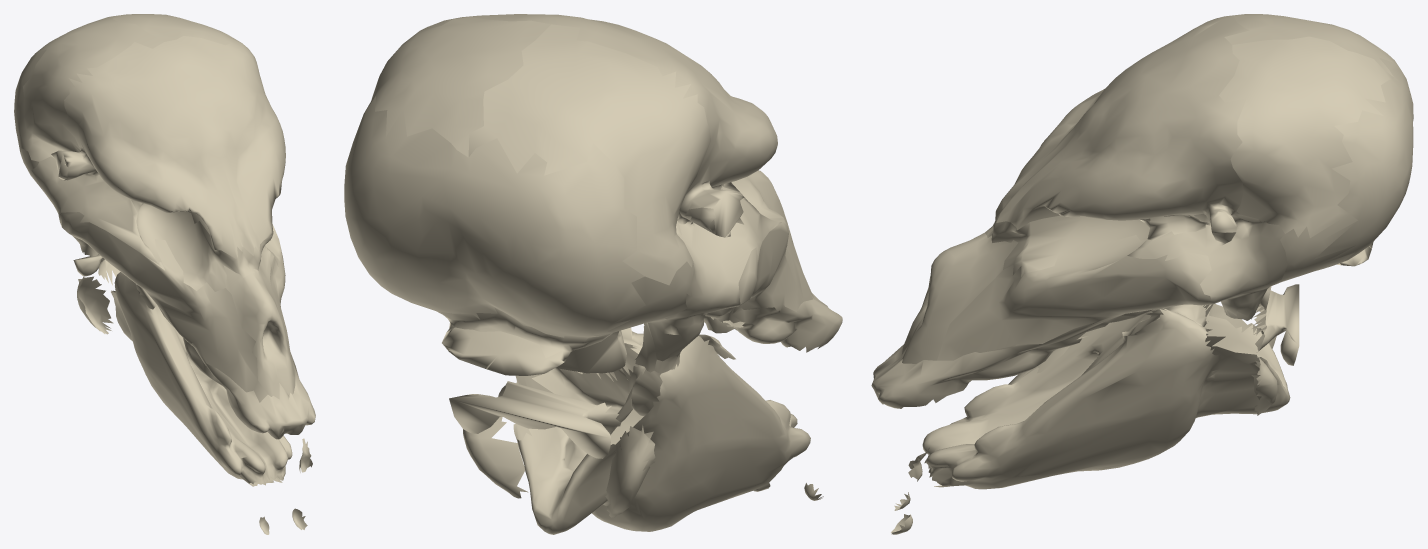
File: imp-skull.glb
The picture shows the model from 3 angles, left to right: view 1: azimuth 30°, elevation 25°; view 2: azimuth 150°, elevation 25°; view 3: azimuth 270°, elevation 25°; orthographic projection. The views are drawn at different scales.
Parts seen in each view (by area): view 1: frontal, mandible, maxilla-right, parietal-right, cranial-base, nasal-core, zygomatic-right, upper-teeth, parietal-left, maxilla-left, occipital, temporal-right; view 2: occipital, mandible, parietal-right, cranial-base, parietal-left, frontal, zygomatic-right, upper-teeth, maxilla-right, temporal-right, nasal-core; view 3: mandible, frontal, parietal-left, maxilla-left, cranial-base, occipital, zygomatic-left, upper-teeth, nasal-core, parietal-right, temporal-left.
Boxes of the visible parts, box(x1,y1,x2,y2) form: frontal: box(56, 34, 285, 258); mandible: box(111, 272, 312, 534); maxilla-right: box(61, 212, 267, 402); parietal-right: box(14, 16, 163, 169); cranial-base: box(73, 203, 278, 334); nasal-core: box(223, 254, 295, 399); zygomatic-right: box(31, 156, 164, 270); upper-teeth: box(158, 306, 315, 439); parietal-left: box(113, 14, 240, 45); maxilla-left: box(265, 224, 291, 357); occipital: box(14, 46, 46, 132); temporal-right: box(20, 148, 96, 300); occipital: box(344, 96, 645, 375); mandible: box(513, 327, 823, 534); parietal-right: box(468, 24, 715, 285); cranial-base: box(437, 177, 783, 517); parietal-left: box(365, 17, 550, 157); frontal: box(420, 14, 777, 237); zygomatic-right: box(648, 185, 781, 361); upper-teeth: box(698, 293, 842, 359); maxilla-right: box(705, 218, 813, 317); temporal-right: box(594, 261, 693, 470); nasal-core: box(746, 170, 793, 244); mandible: box(891, 304, 1290, 534); frontal: box(996, 14, 1249, 233); parietal-left: box(1219, 36, 1393, 239); maxilla-left: box(937, 235, 1213, 360); cranial-base: box(985, 200, 1340, 415); occipital: box(1314, 48, 1413, 266); zygomatic-left: box(1127, 213, 1287, 315); upper-teeth: box(871, 315, 1134, 408); nasal-core: box(902, 232, 1018, 363); parietal-right: box(1224, 14, 1393, 76); temporal-left: box(1226, 214, 1357, 320).
Bounding box in the file's own units: 0.115 × 0.2122 × 0.2127.
